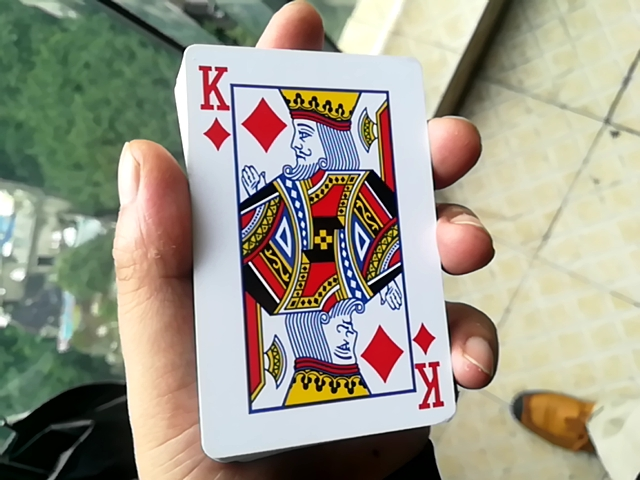fk k: (161, 30, 464, 449)
